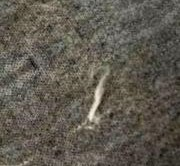snag: (81, 68, 116, 131)
